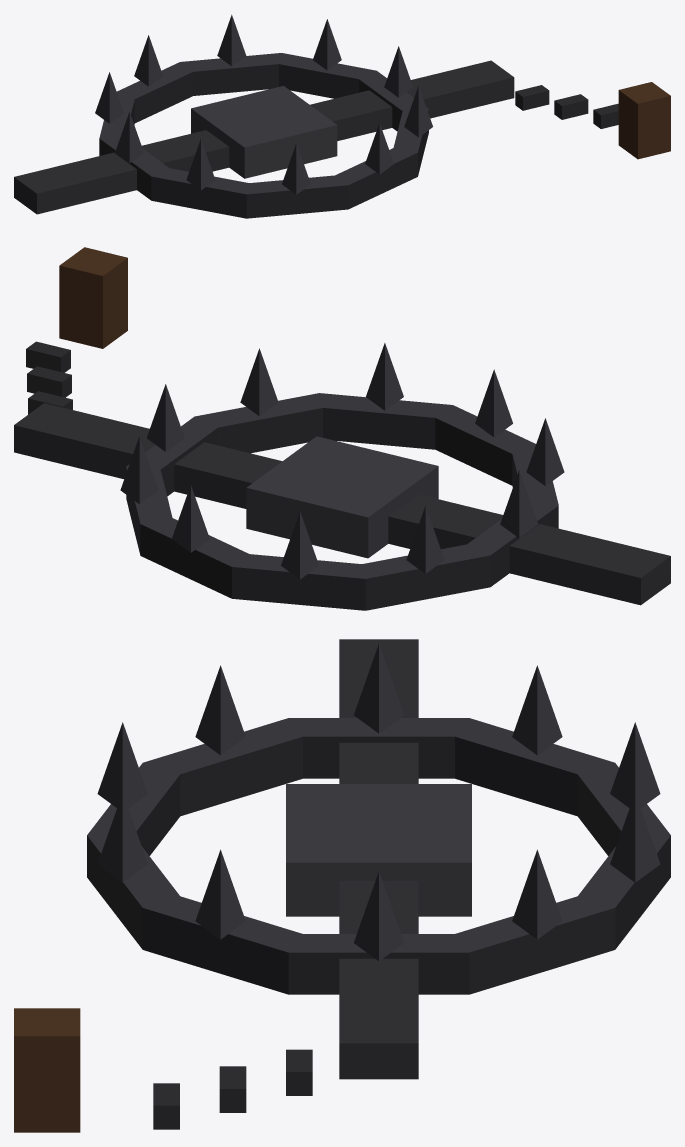
Rendered from bear_trap.glb.
The picture shows the model from 3 angles, top to bottom: view 1: azimuth 30°, elevation 25°; view 2: azimuth 150°, elevation 25°; view 3: azimuth 270°, elevation 25°; orthographic projection. The views are drawn at different scales.
Visible parts, largest first — view 1: bear_trap; view 2: bear_trap; view 3: bear_trap.
Boxes of the visible parts, x1,y1,x2,y2 form: bear_trap: (14,14,670,218); bear_trap: (14,247,670,610); bear_trap: (14,639,670,1132).
Bounding box in the file's own units: 0.815 × 0.1 × 0.495.
